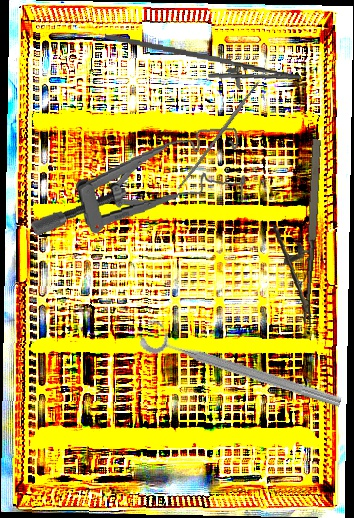Fixation Ring: (137, 316, 348, 414)
Needle Holder: (101, 33, 304, 96), (265, 136, 327, 325)
Scalpel Handle: (176, 79, 262, 192)
Speculum: (23, 124, 252, 240)
